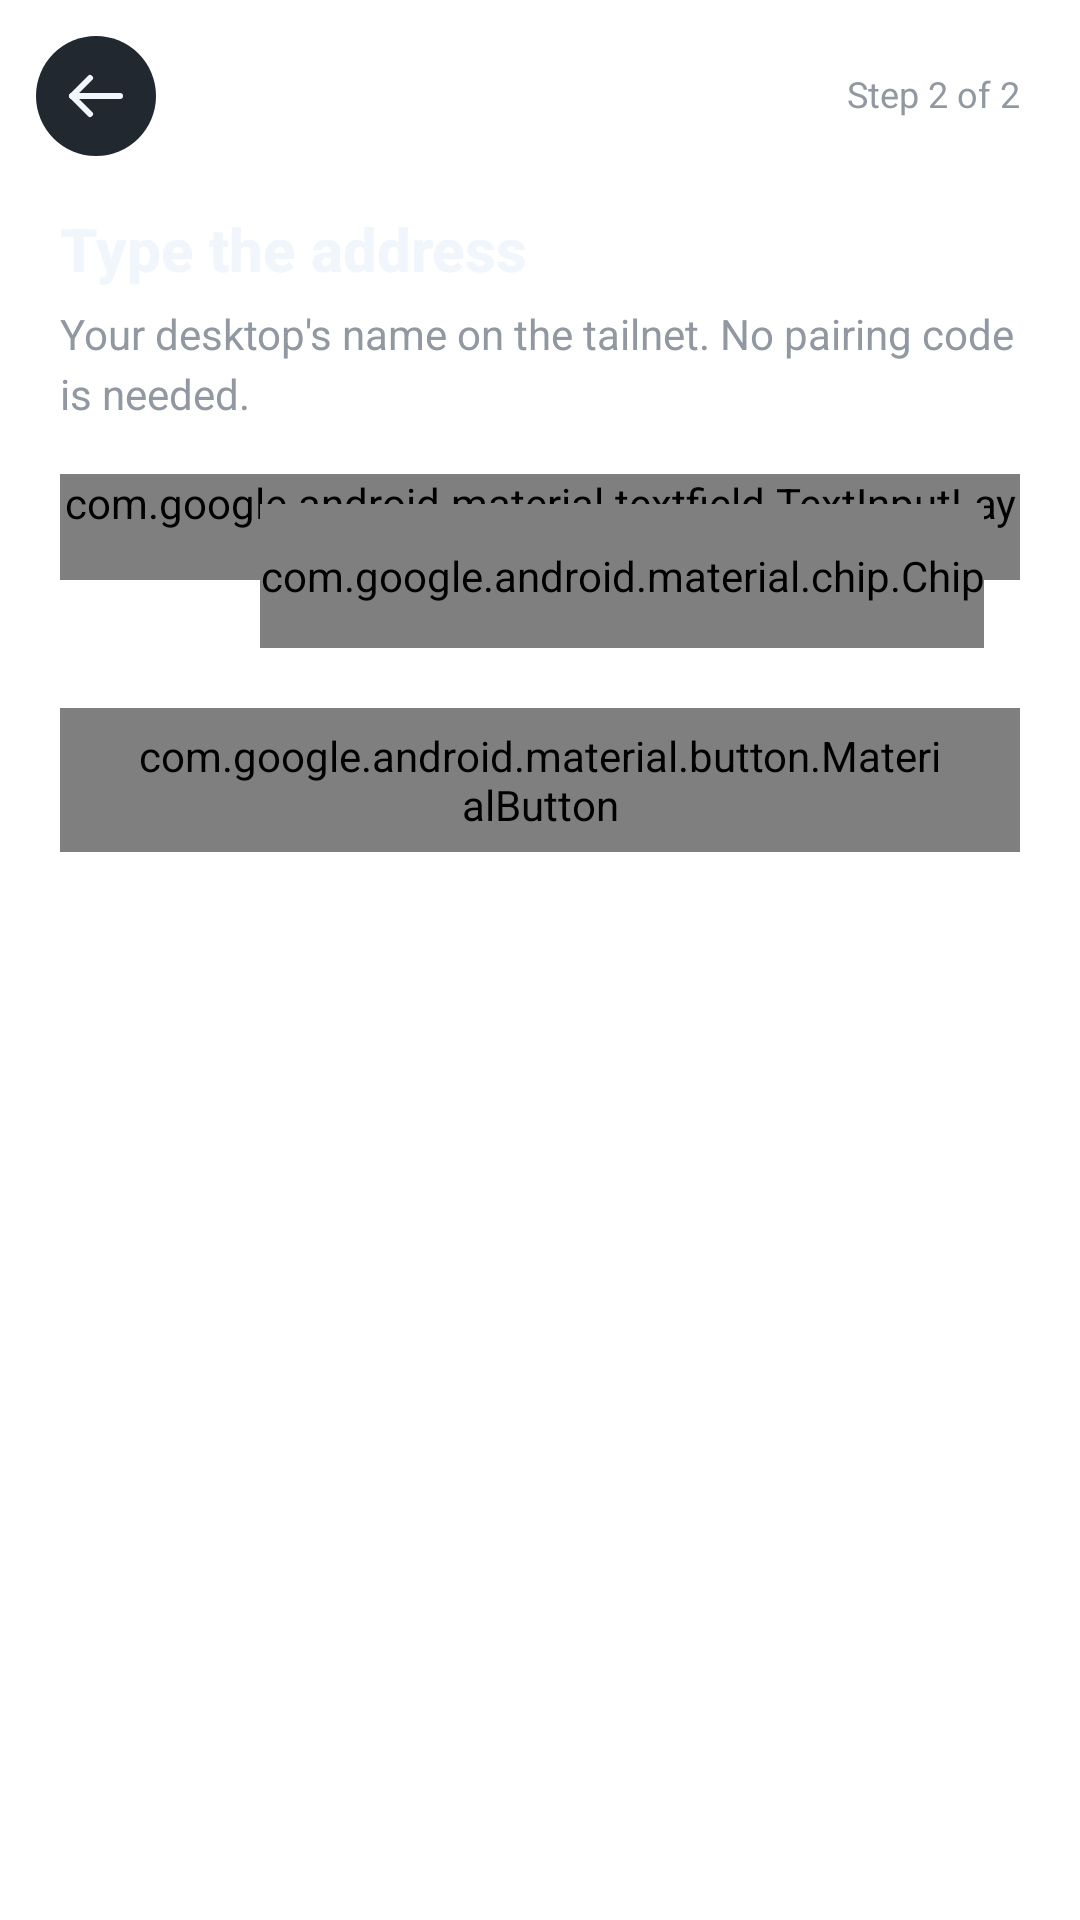

Icon click points for this 1080*1920 phone screenshot, format point (x, y):
Back: point (96, 96)
